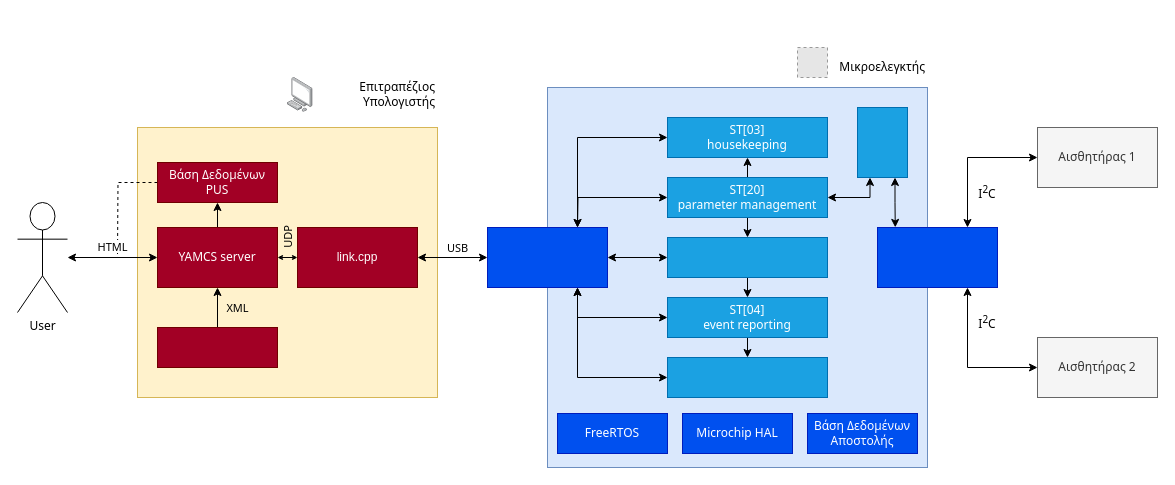
Image size: 1175x485. Some labels were removed from this diagram. Grey dashed boxes stand in for pictures. The box of each missing label's shape, as (x1, y1, x2, y2) in pixels:
ST[15] on-board monitoring: (666, 236, 828, 278)
ST[19] event-action: (666, 356, 828, 398)
Βασική Λογική: (856, 106, 908, 178)
Οδηγοί Περιφερειακών: (876, 226, 998, 288)
Περιγραφή XTCE: (156, 326, 278, 368)
Περιφερειακό UART: (486, 226, 608, 288)
